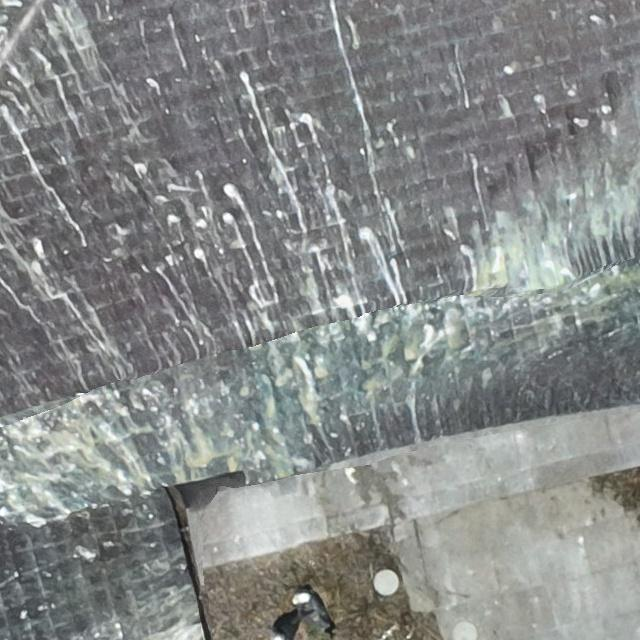umineko: (295, 594, 336, 632), (276, 610, 306, 639)
